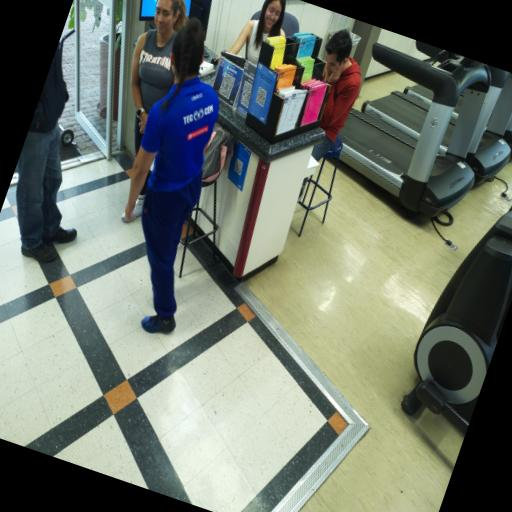person: (125, 19, 218, 333), (16, 45, 76, 262), (131, 0, 186, 155), (312, 30, 360, 161), (229, 0, 286, 64)
